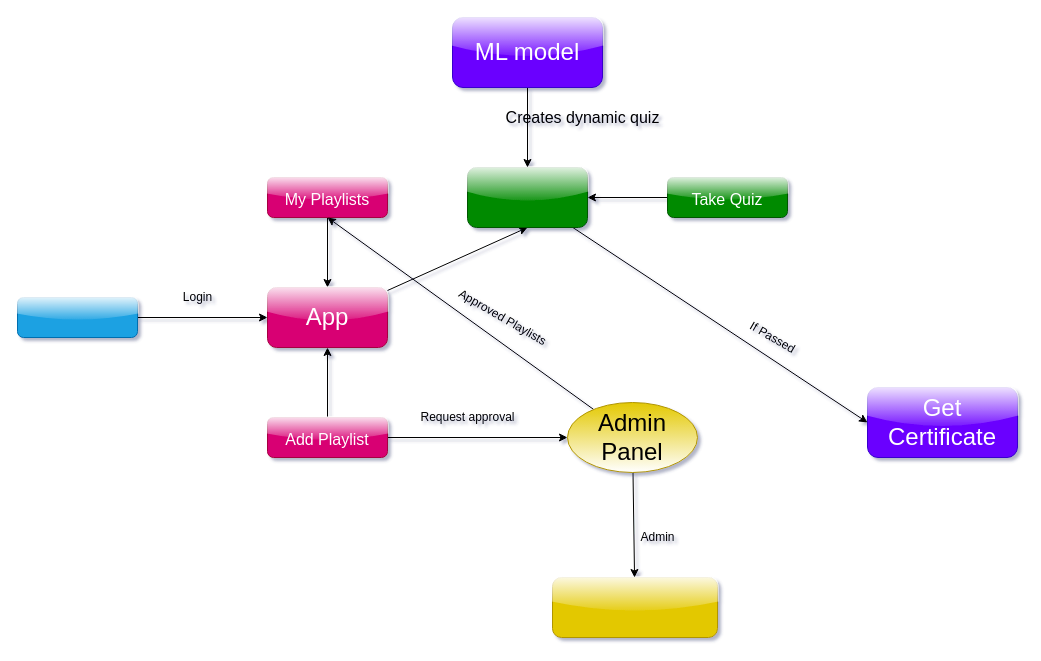
Image size: 1041x661. Some labels were removed from this diagram. The centre of each missing label's shape, as x and y in pixels:
"Approve/Disapprove Playlists" goes at (x=635, y=607).
"Quiz" goes at (x=527, y=197).
"User" goes at (x=77, y=317).
